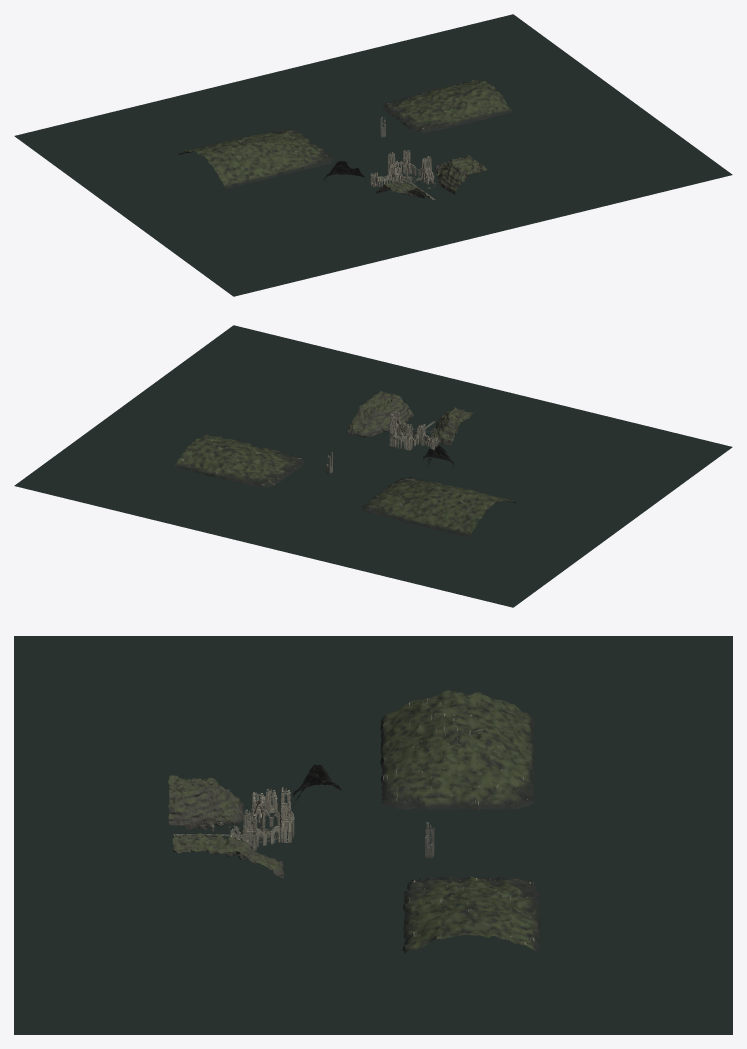
File: drowned_sanctuary.glb
The picture shows the model from 3 angles, top to bottom: view 1: azimuth 30°, elevation 25°; view 2: azimuth 150°, elevation 25°; view 3: azimuth 270°, elevation 25°; orthographic projection. The views are drawn at different scales.
Parts seen in each view (by area): view 1: Water_Flooded_Basin, Mountains_Distant_Left, Mountains_Distant_Right, Cliff_Right_Foreground; view 2: Water_Flooded_Basin, Mountains_Distant_Left, Mountains_Distant_Right, Cliff_Right_Foreground, Cliff_Left_Foreground; view 3: Water_Flooded_Basin, Mountains_Distant_Left, Mountains_Distant_Right, Cliff_Left_Foreground, Cliff_Right_Foreground.
Part boxes in pixels (x1=…): Water_Flooded_Basin: x1=14, y1=14, x2=732, y2=296; Mountains_Distant_Left: x1=179, y1=129, x2=333, y2=188; Mountains_Distant_Right: x1=382, y1=80, x2=512, y2=132; Cliff_Right_Foreground: x1=435, y1=155, x2=488, y2=194; Water_Flooded_Basin: x1=14, y1=325, x2=732, y2=607; Mountains_Distant_Left: x1=361, y1=477, x2=516, y2=537; Mountains_Distant_Right: x1=173, y1=434, x2=304, y2=487; Cliff_Right_Foreground: x1=346, y1=390, x2=414, y2=437; Cliff_Left_Foreground: x1=429, y1=407, x2=473, y2=446; Water_Flooded_Basin: x1=14, y1=636, x2=732, y2=1034; Mountains_Distant_Left: x1=380, y1=690, x2=535, y2=809; Mountains_Distant_Right: x1=402, y1=876, x2=540, y2=953; Cliff_Left_Foreground: x1=168, y1=775, x2=243, y2=830; Cliff_Right_Foreground: x1=172, y1=833, x2=284, y2=878.
Size of what is drawn, in the model's own units: 840 by 43.85 by 640.
7 materials, 5 textured.
